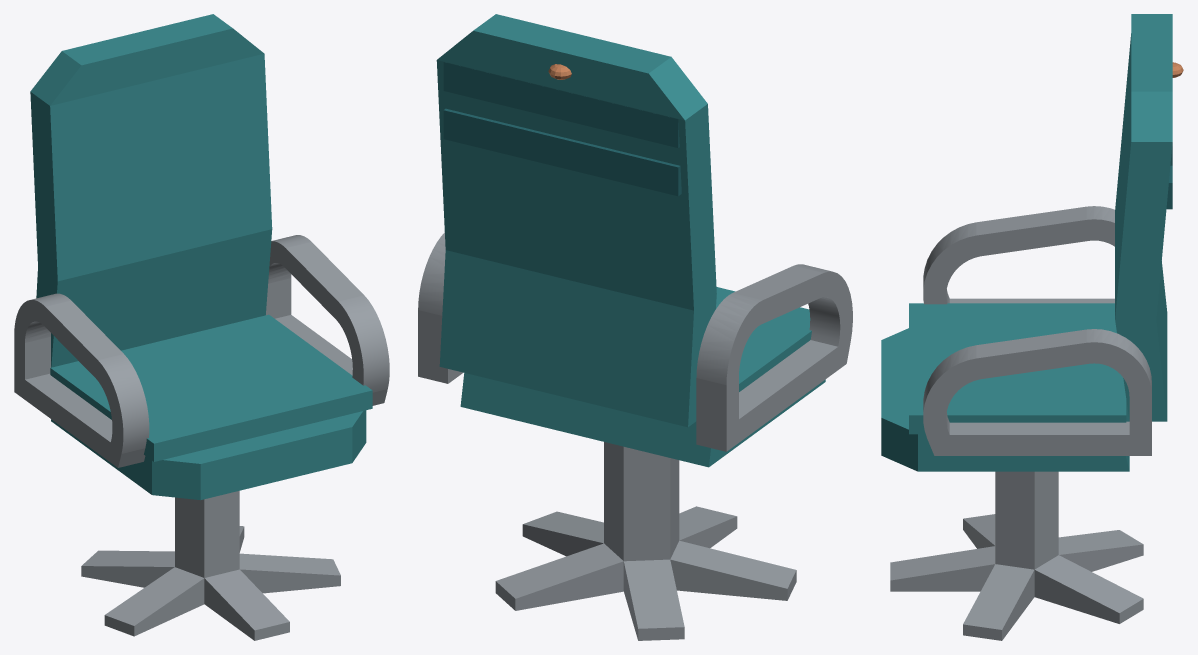
Rendered from chairDesk.glb.
3 views of the same model, side by side, from view 1: azimuth 30°, elevation 25°; view 2: azimuth 150°, elevation 25°; view 3: azimuth 270°, elevation 25° (orthographic). The views are drawn at different scales.
Visible parts, largest first — view 1: chair, chairDesk(Clone); view 2: chair, chairDesk(Clone); view 3: chair, chairDesk(Clone).
Boxes of the visible parts, x1,y1,x2,y2 form: chair: [14, 14, 389, 500]; chairDesk(Clone): [81, 491, 340, 640]; chair: [418, 14, 852, 467]; chairDesk(Clone): [495, 442, 796, 640]; chair: [881, 14, 1183, 471]; chairDesk(Clone): [890, 471, 1143, 640].
Size of the model in its own units: 0.335 by 0.6076 by 0.3143.
